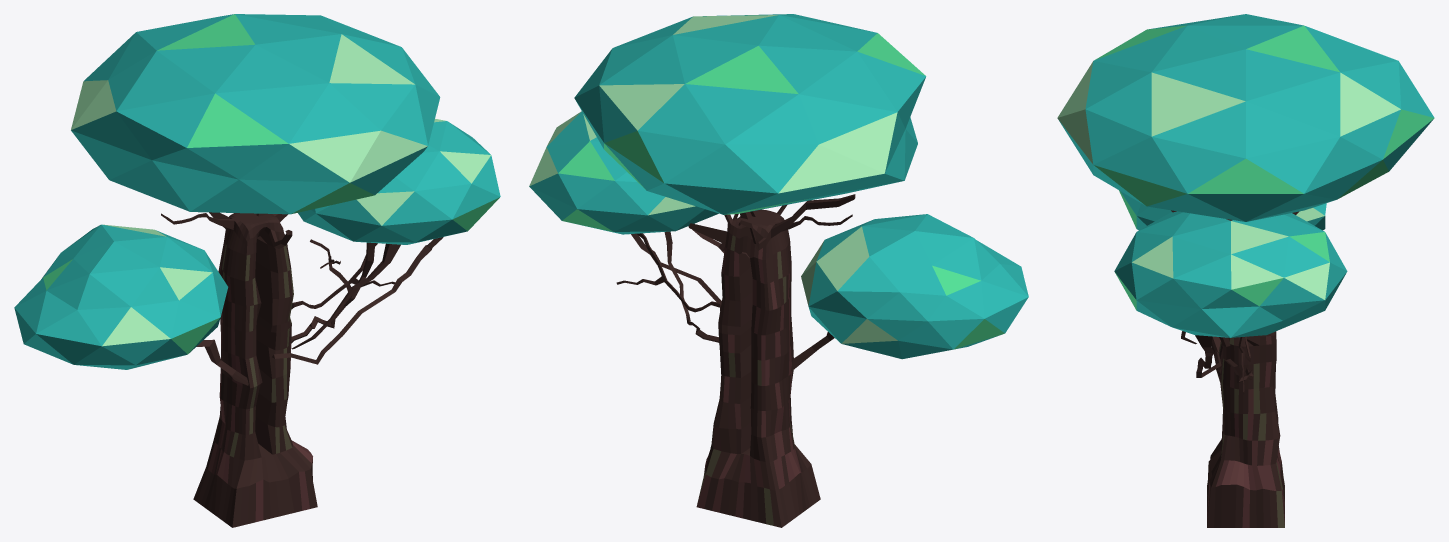
File: Tree.fbx
The picture shows the model from 3 angles, left to right: view 1: azimuth 30°, elevation 25°; view 2: azimuth 150°, elevation 25°; view 3: azimuth 270°, elevation 25°; orthographic projection.
Visible parts, largest first — view 1: 大树; view 2: 大树; view 3: 大树.
Part boxes in pixels (<box>): 大树: <box>14,14,500,527</box>; 大树: <box>529,14,1028,527</box>; 大树: <box>1057,14,1434,527</box>.
Size of the model in its own units: 4209 by 2997 by 4014.
